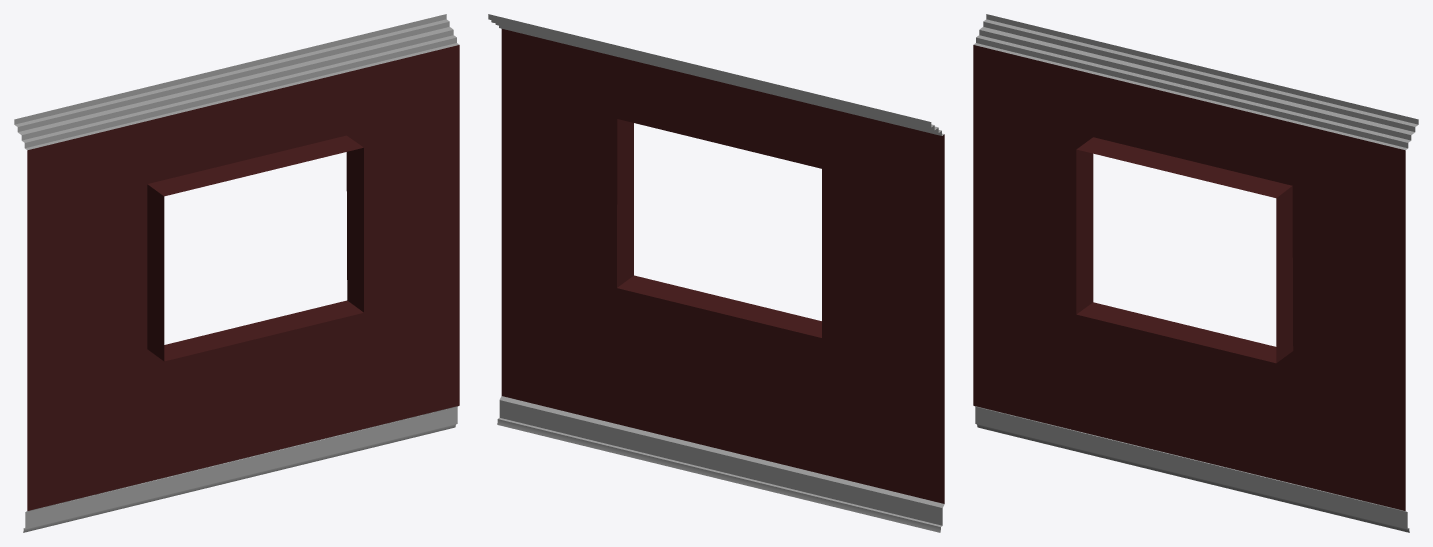
The model's file is ContemporaryWindowNoFrame.fbx.
The picture shows the model from 3 angles, left to right: view 1: azimuth 30°, elevation 25°; view 2: azimuth 150°, elevation 25°; view 3: azimuth 330°, elevation 25°; orthographic projection. The views are drawn at different scales.
Parts seen in each view (by area): view 1: WindowNoMould1; view 2: WindowNoMould1; view 3: WindowNoMould1.
Boxes of the visible parts, x1,y1,x2,y2 form: WindowNoMould1: (14,14,459,532); WindowNoMould1: (488,14,944,532); WindowNoMould1: (973,14,1418,532).
Size of the model in its own units: 4 by 3.6 by 0.4793.
